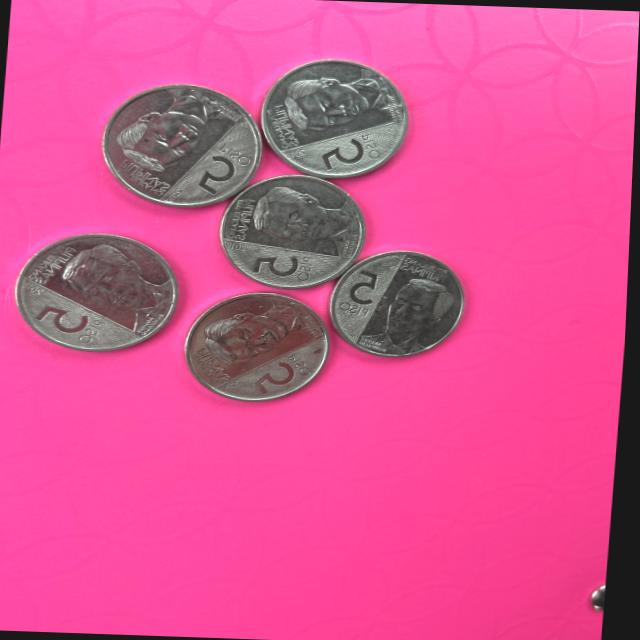5_New_Front: (34, 300, 128, 349), (239, 344, 320, 400), (183, 141, 257, 199), (316, 126, 394, 178), (337, 260, 394, 320), (249, 249, 329, 284)
